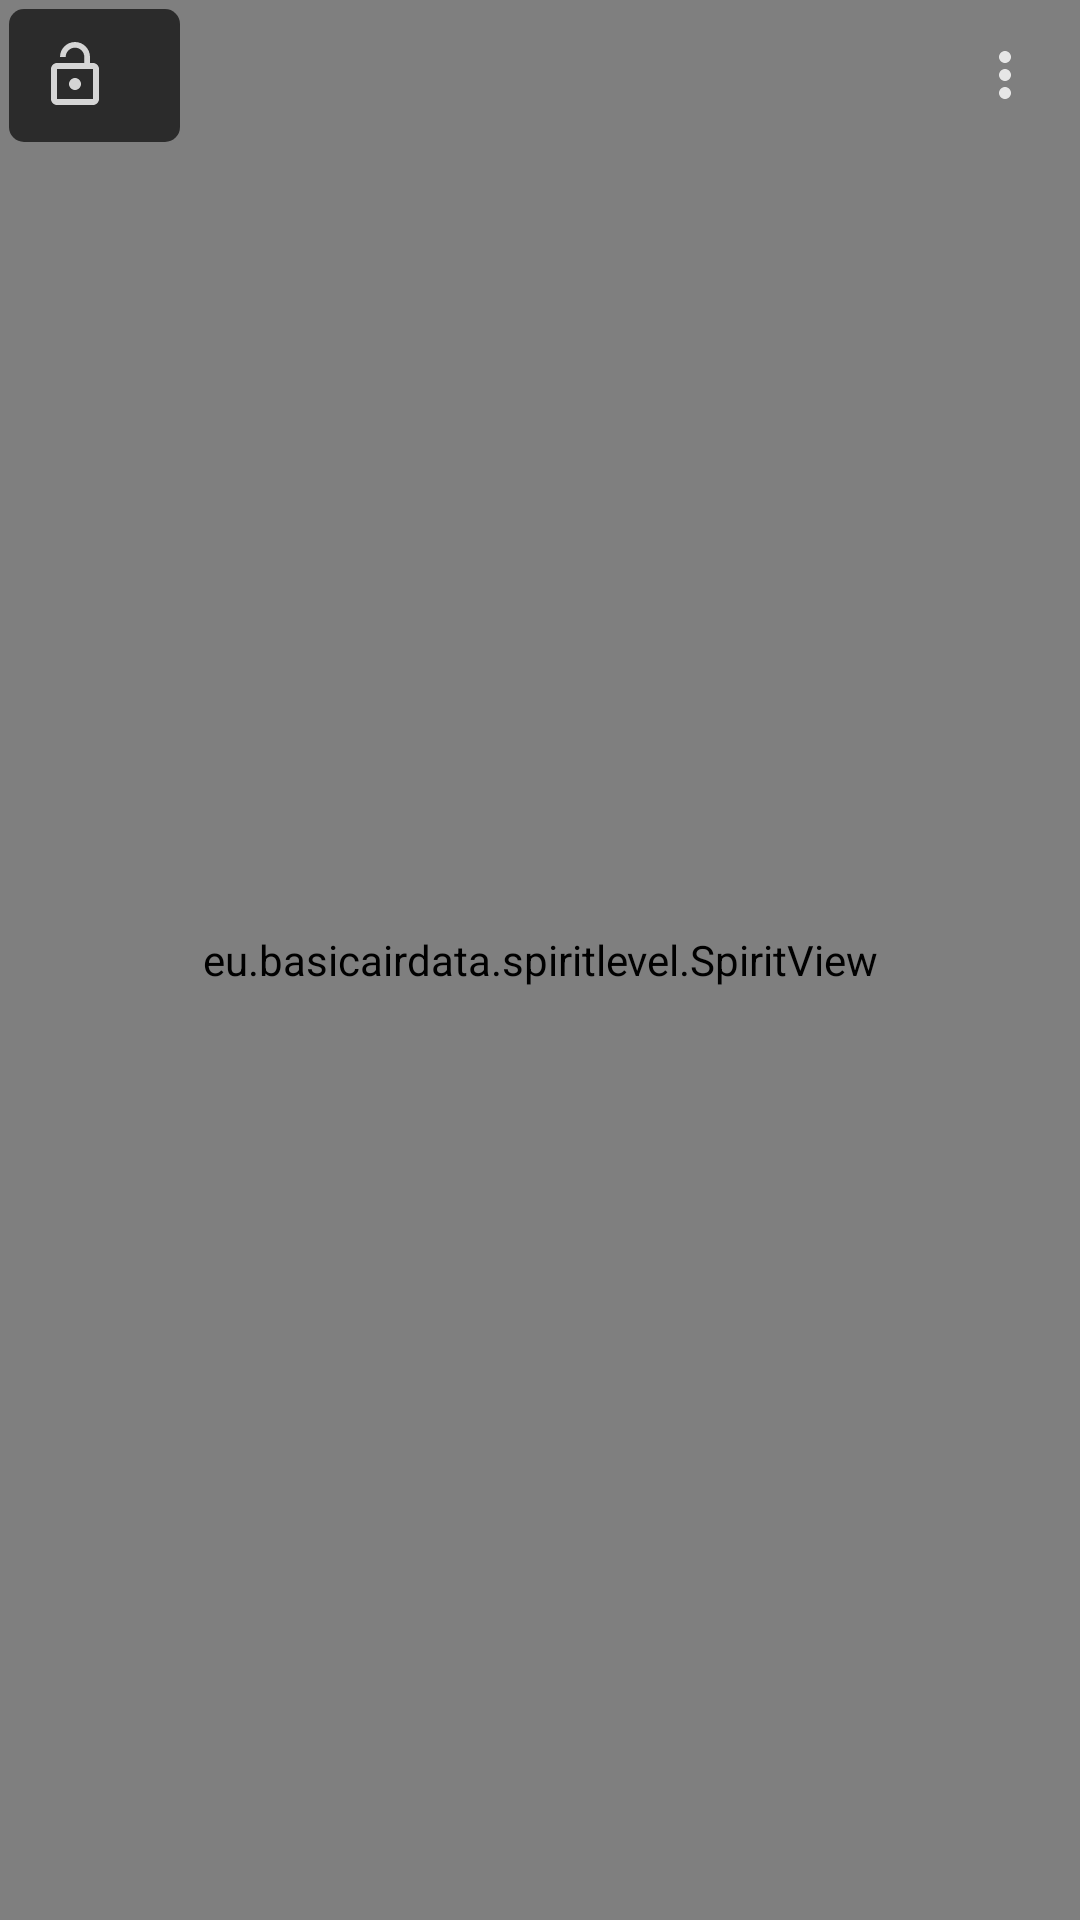

Named icons in this screenshot (1080*1920) and their bounding boxes, (left=x1, top=y1, right=x2, bottom=y2):
lock open: (left=51, top=42, right=99, bottom=105)
more: (left=999, top=51, right=1011, bottom=99)
